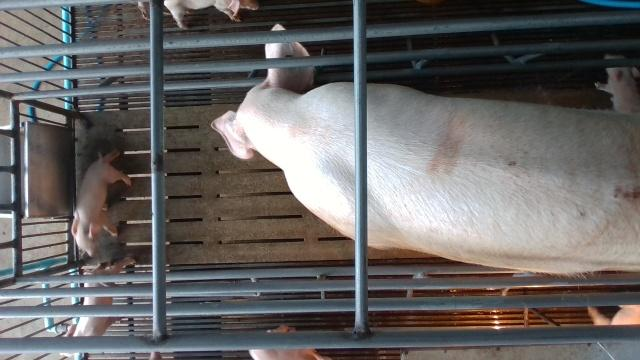piglet: (59, 257, 136, 356), (71, 152, 133, 258), (165, 0, 261, 30), (594, 53, 640, 112)
sow-stand: (209, 24, 640, 276)
